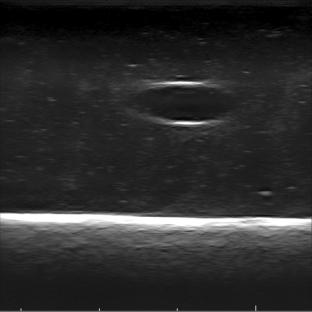vessel: (131, 80, 236, 128)
